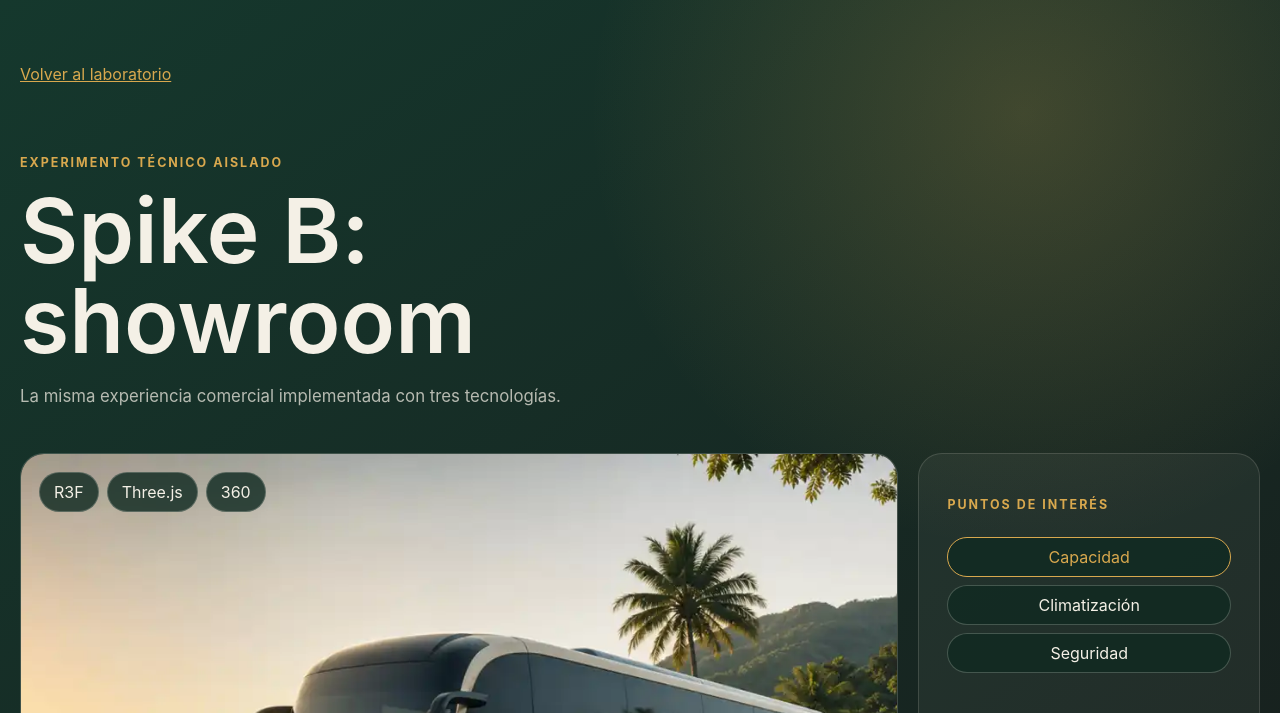
Test case: ShowroomSpike › shows the same descriptive HTML panel for hotspot selection
Click the button "Seguridad": (1089, 653) [947, 633, 1231, 673]
(page scrolled)
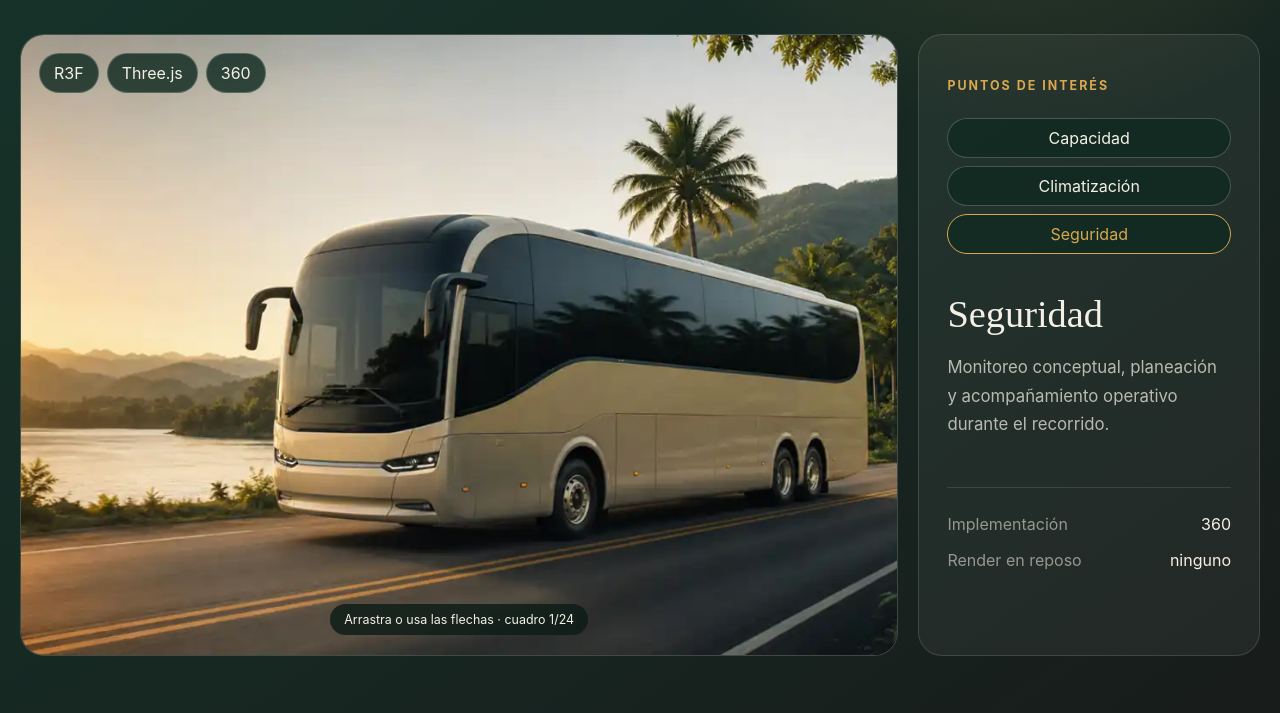
Expected: the heading "Seguridad" is shown, [947, 293, 1103, 335]
Expected: the text "Monitoreo conceptual" is shown, [947, 357, 1217, 434]
